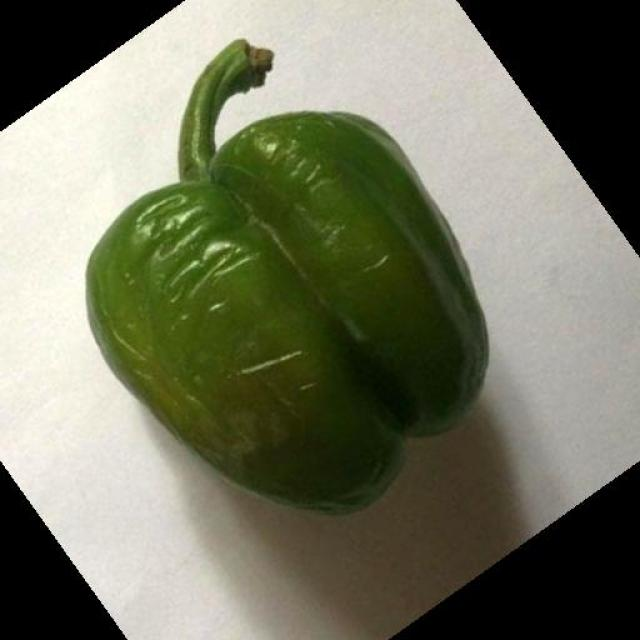Stale_Capsicum: (71, 98, 517, 498)
